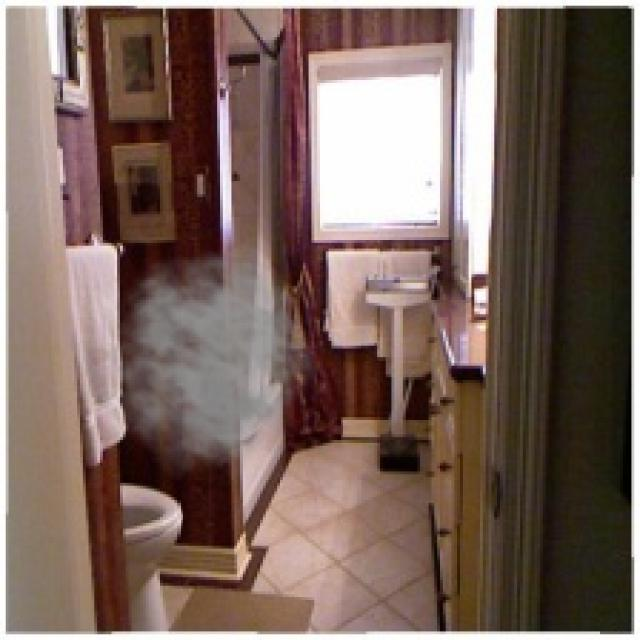smoke: (92, 243, 314, 486)
